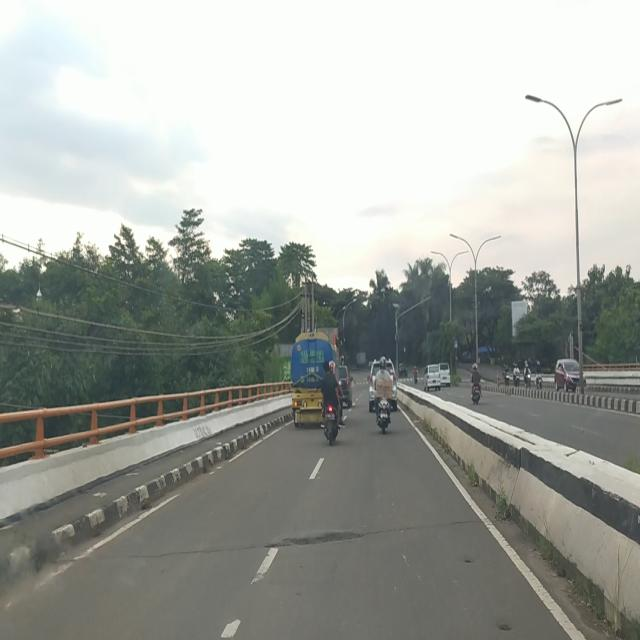Sewer Cover: (127, 521, 483, 559)
